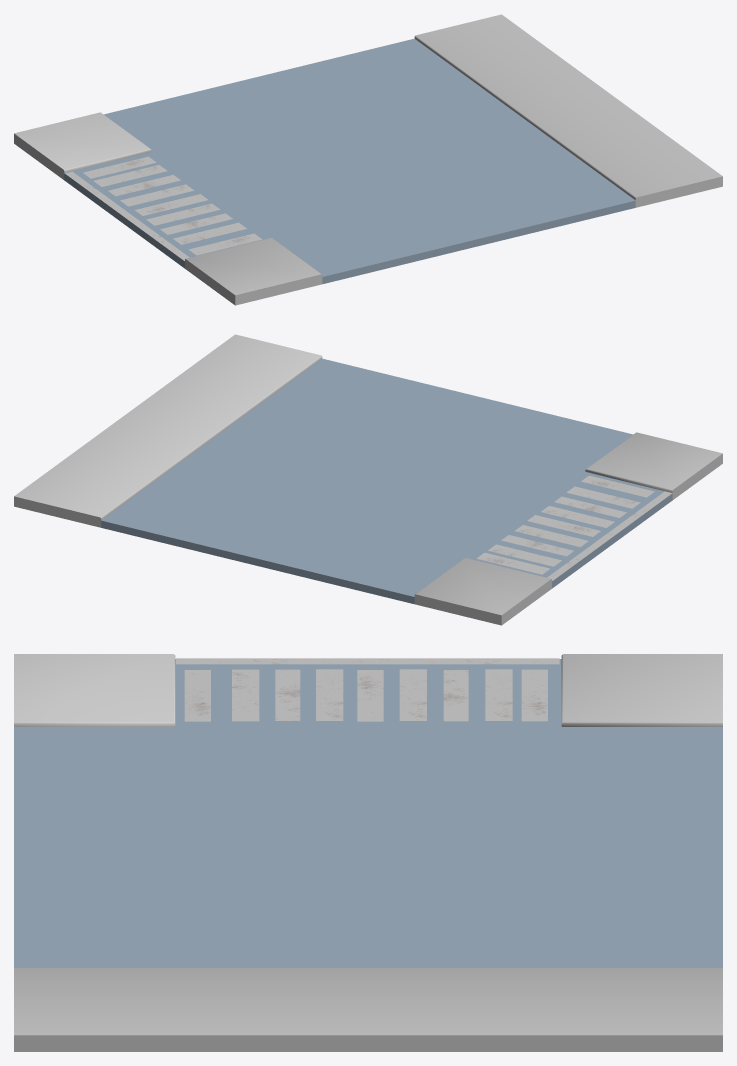
The model's file is Road_016.fbx.
The picture shows the model from 3 angles, top to bottom: view 1: azimuth 30°, elevation 25°; view 2: azimuth 150°, elevation 25°; view 3: azimuth 270°, elevation 25°; orthographic projection. The views are drawn at different scales.
Parts seen in each view (by area): view 1: Road_016; view 2: Road_016; view 3: Road_016.
Part boxes in pixels (x1,y1,x2,y2): Road_016: (14, 14, 722, 305); Road_016: (14, 334, 722, 625); Road_016: (14, 654, 722, 1051).
Size of the model in its own units: 2803 by 56.17 by 2202.
